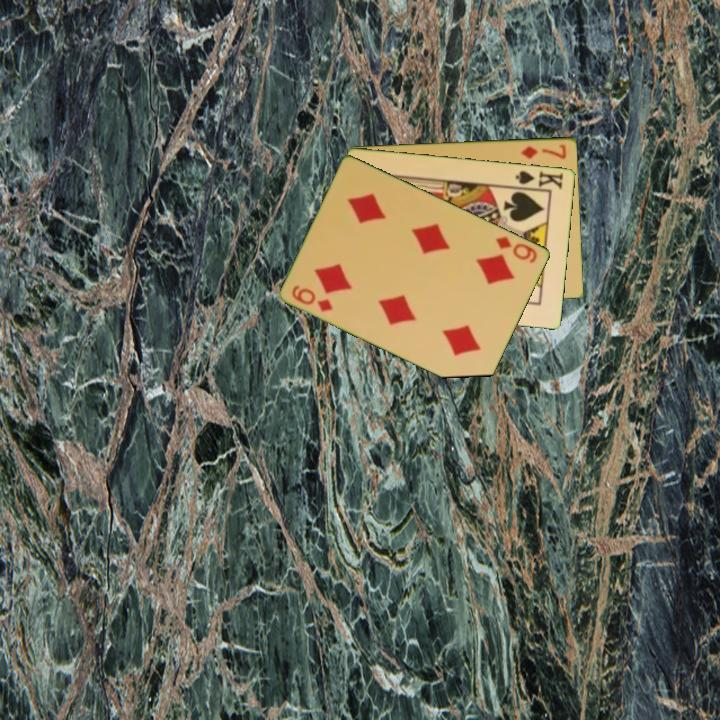6d: (492, 232, 541, 266), (288, 281, 336, 315)
7d: (518, 140, 570, 162)
Ks: (511, 167, 566, 192)
